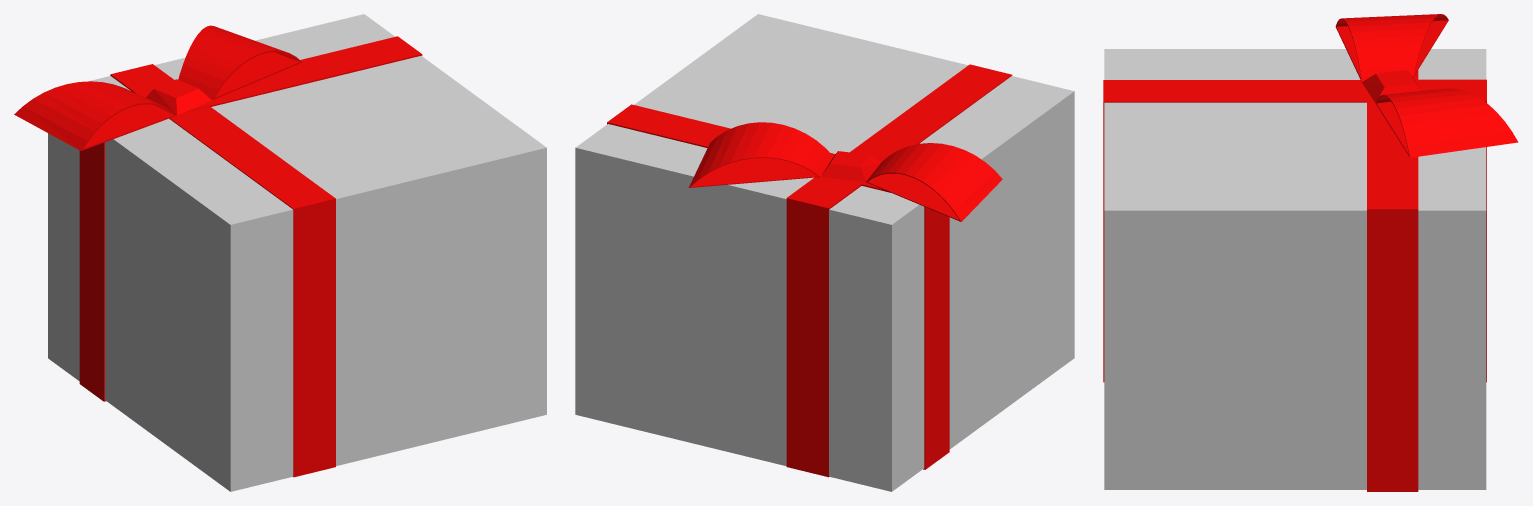
Rendered from Prop_Christmas_Present_White_02.FBX.
3 views of the same model, side by side, from view 1: azimuth 30°, elevation 25°; view 2: azimuth 150°, elevation 25°; view 3: azimuth 270°, elevation 25° (orthographic). The views are drawn at different scales.
Visible parts, largest first — view 1: Prop_Christmas_Present_White_02; view 2: Prop_Christmas_Present_White_02; view 3: Prop_Christmas_Present_White_02.
Boxes of the visible parts, x1,y1,x2,y2 form: Prop_Christmas_Present_White_02: (14,14,546,491); Prop_Christmas_Present_White_02: (575,14,1074,491); Prop_Christmas_Present_White_02: (1103,14,1518,491).
Bounding box in the file's own units: 387 × 298 × 360.
